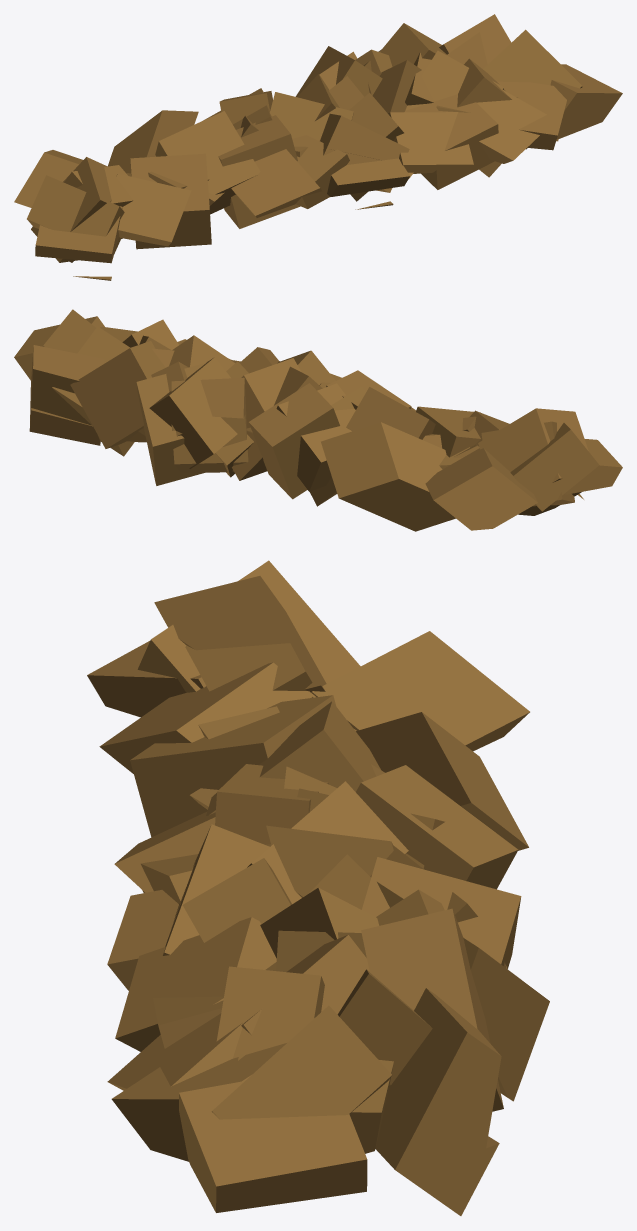
Rendered from Rubble.fbx.
3 views of the same model, one above another, from view 1: azimuth 30°, elevation 25°; view 2: azimuth 150°, elevation 25°; view 3: azimuth 270°, elevation 25° (orthographic). The views are drawn at different scales.
Parts seen in each view (by area): view 1: pCube11, pCube7, pCube35, pCube50, pCube34, pCube15, pCube42, pCube53, pCube9, pCube51, pCube47, pCube55 (+23 smaller); view 2: pCube62, pCube37, pCube69, pCube59, pCube70, pCube73, pCube15, pCube64, pCube61, pCube60, pCube66, pCube71 (+19 smaller); view 3: pCube70, pCube47, pCube37, pCube53, pCube7, pCube59, pCube69, pCube50, pCube62, pCube64, pCube35, pCube56 (+25 smaller).
Part boxes in pixels (x1=…): pCube11: x1=155, y1=111, x2=260, y2=214; pCube7: x1=130, y1=153, x2=211, y2=249; pCube35: x1=116, y1=173, x2=191, y2=246; pCube50: x1=388, y1=112, x2=473, y2=173; pCube34: x1=231, y1=149, x2=321, y2=217; pCube15: x1=27, y1=175, x2=124, y2=253; pCube42: x1=404, y1=94, x2=498, y2=189; pCube53: x1=483, y1=29, x2=582, y2=149; pCube9: x1=218, y1=115, x2=300, y2=228; pCube51: x1=477, y1=88, x2=546, y2=163; pCube47: x1=550, y1=64, x2=622, y2=138; pCube55: x1=320, y1=113, x2=409, y2=192; pCube62: x1=321, y1=422, x2=455, y2=531; pCube37: x1=425, y1=448, x2=537, y2=530; pCube69: x1=70, y1=341, x2=165, y2=448; pCube59: x1=248, y1=383, x2=339, y2=499; pCube70: x1=29, y1=345, x2=104, y2=445; pCube73: x1=149, y1=357, x2=237, y2=468; pCube15: x1=510, y1=423, x2=599, y2=511; pCube64: x1=478, y1=408, x2=588, y2=515; pCube61: x1=171, y1=377, x2=248, y2=472; pCube60: x1=136, y1=362, x2=206, y2=485; pCube66: x1=232, y1=358, x2=301, y2=480; pCube71: x1=276, y1=383, x2=355, y2=491; pCube70: x1=375, y1=988, x2=501, y2=1215; pCube47: x1=179, y1=1081, x2=367, y2=1212; pCube37: x1=311, y1=631, x2=529, y2=751; pCube53: x1=211, y1=1005, x2=391, y2=1119; pCube7: x1=130, y1=695, x2=335, y2=837; pCube59: x1=356, y1=765, x2=518, y2=889; pCube69: x1=361, y1=908, x2=503, y2=1111; pCube50: x1=115, y1=917, x2=276, y2=1051; pCube62: x1=356, y1=712, x2=528, y2=850; pCube64: x1=154, y1=576, x2=326, y2=692; pCube35: x1=99, y1=662, x2=315, y2=773; pCube56: x1=216, y1=966, x2=324, y2=1058.
Bounding box in the file's own units: 20.16 × 4.01 × 6.96.
